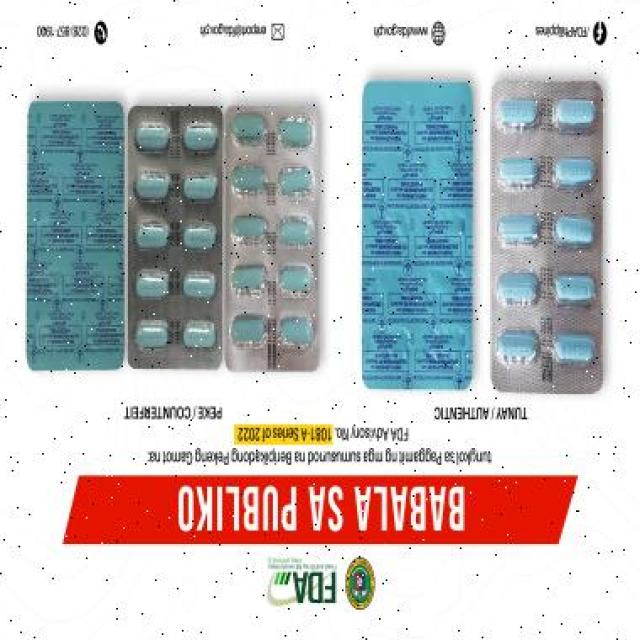Bioflu_Strip: (480, 72, 610, 398), (223, 89, 329, 379), (126, 79, 222, 387)
